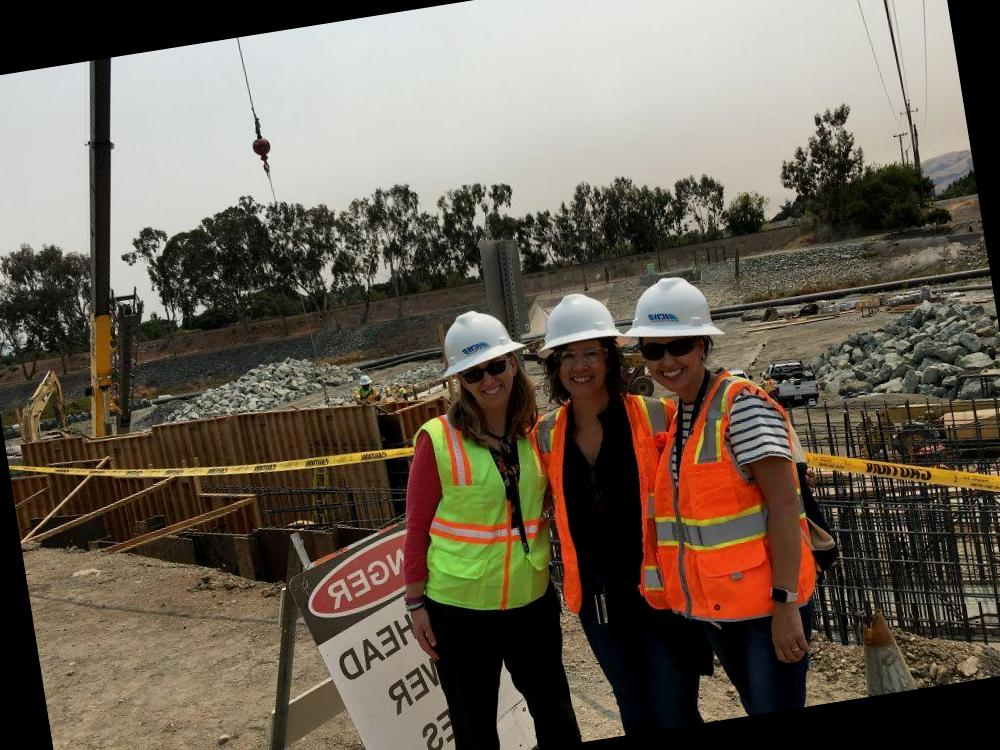helmet: (618, 256, 738, 363), (518, 274, 633, 379), (424, 293, 528, 388)
person: (612, 256, 853, 722), (341, 296, 587, 750), (497, 277, 706, 734)
